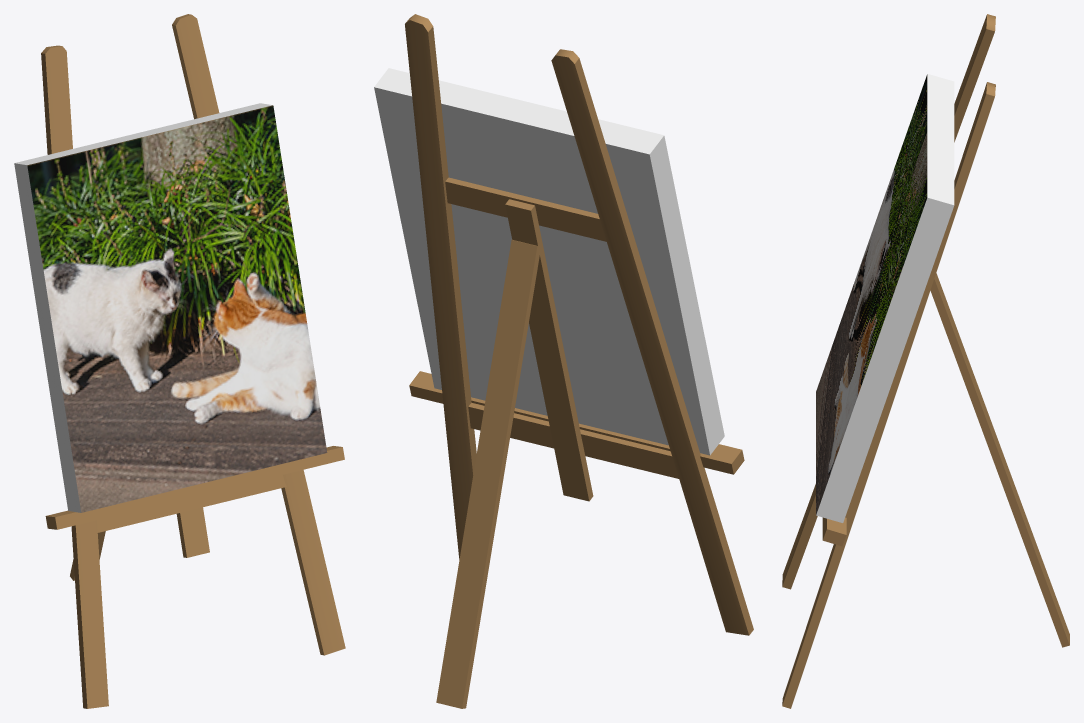
File: ajoumeo_11.fbx
The picture shows the model from 3 angles, left to right: view 1: azimuth 30°, elevation 25°; view 2: azimuth 150°, elevation 25°; view 3: azimuth 270°, elevation 25°; orthographic projection. The views are drawn at different scales.
Parts seen in each view (by area): view 1: ajoumeo_011; view 2: ajoumeo_011; view 3: ajoumeo_011.
Part boxes in pixels (x1,y1,x2,y2): ajoumeo_011: (14, 14, 345, 708); ajoumeo_011: (374, 14, 753, 708); ajoumeo_011: (782, 14, 1069, 708).
Bounding box in the file's own units: 0.6744 × 1.3 × 0.5661.
1 material, 1 textured.
